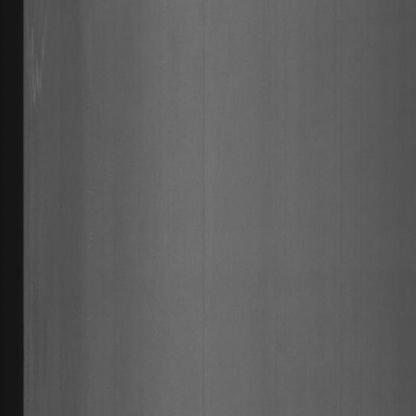silk_spot: (27, 15, 57, 123)
